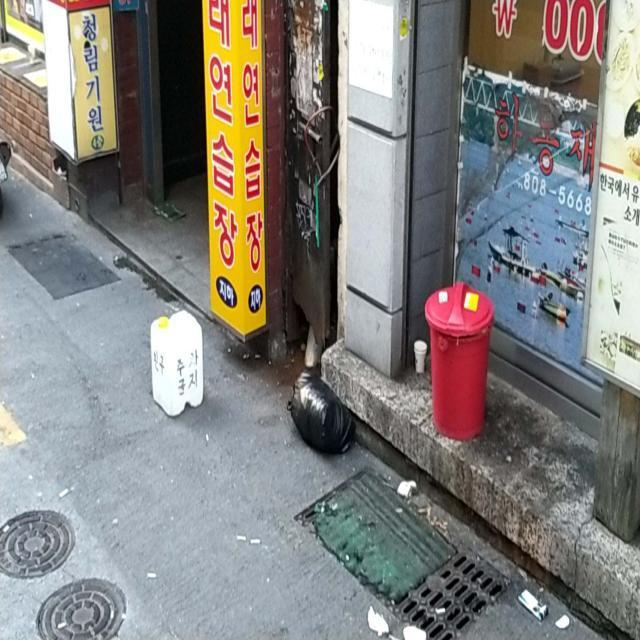Trashbag: (278, 365, 371, 459)
